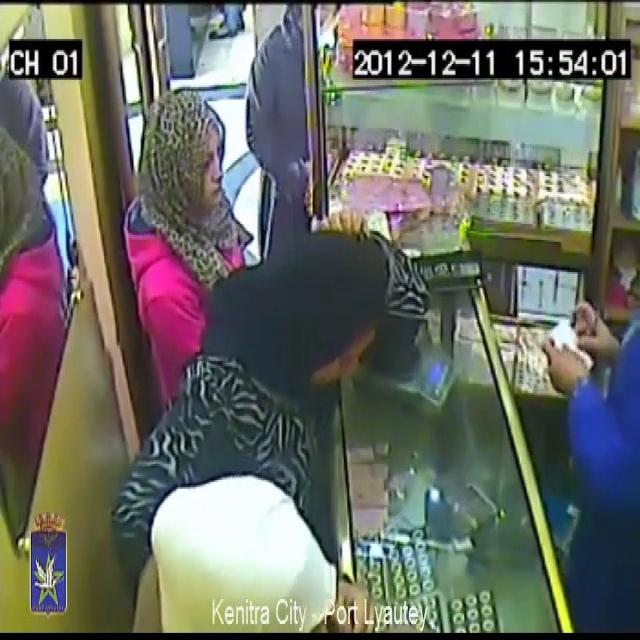Product: (544, 300, 592, 372)
normal: (114, 405, 330, 640), (120, 64, 232, 330), (266, 225, 397, 442)
shoplifting: (533, 230, 640, 638)
